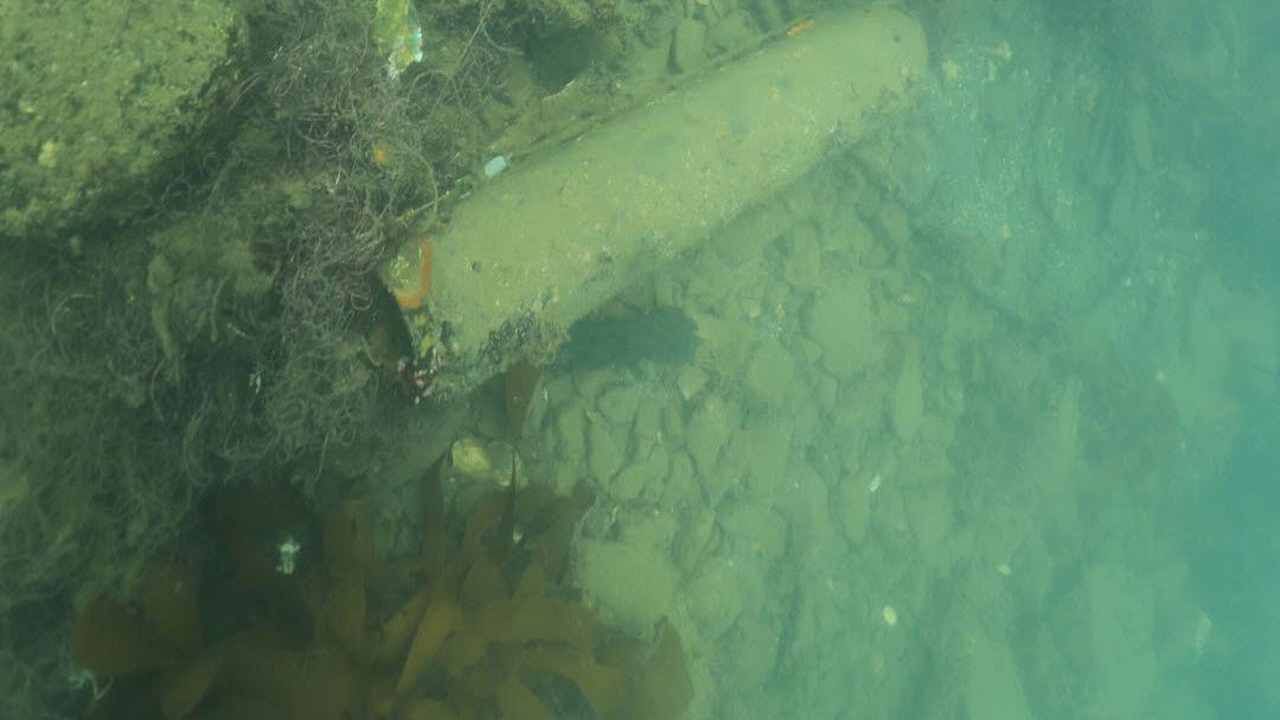eel fish trap: (369, 1, 929, 361)
